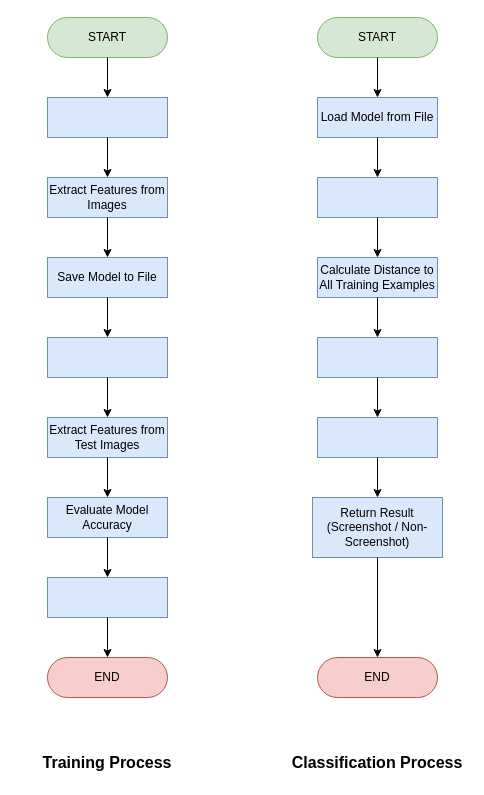
Some shapes in this 484 by 795 pixel diagram are drawn without their labels. The centre of each missing label's shape, as x and y in pixels:
Extract Features from Query Image: (377,197)
Find K Nearest Neighbors: (377,357)
Load Test Images: (107,357)
Load Training Images: (107,117)
Majority Vote for Classification: (377,437)
Print Results and Performance Metrics: (107,597)
